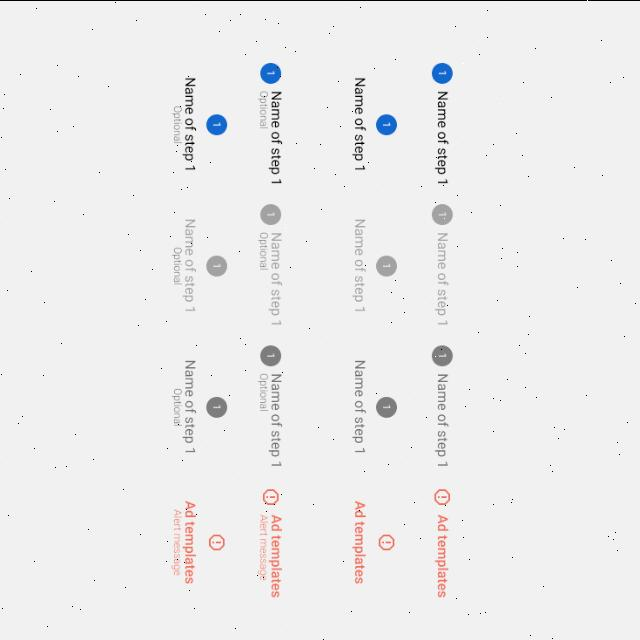QLabel: (258, 88, 284, 184), (258, 230, 284, 324), (258, 372, 284, 466), (172, 76, 198, 170), (174, 358, 198, 454), (174, 218, 198, 312), (258, 514, 284, 596), (172, 500, 196, 586), (352, 76, 368, 170), (352, 358, 368, 452), (352, 218, 368, 310), (436, 88, 450, 184), (352, 499, 368, 583), (436, 230, 450, 324), (436, 372, 450, 466), (434, 514, 450, 596)
VStepper: (168, 52, 232, 606), (348, 52, 402, 622), (245, 50, 295, 604), (424, 52, 462, 608)
